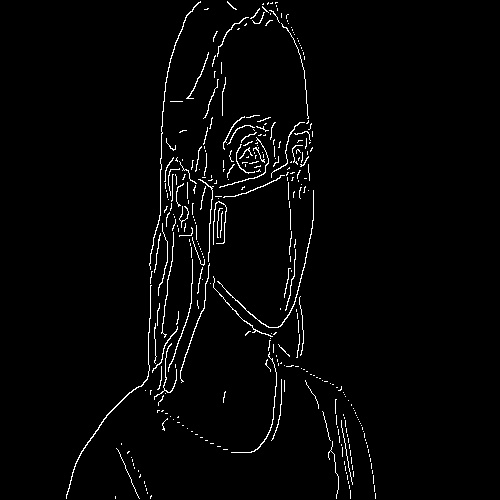mask: (204, 189, 324, 328)
